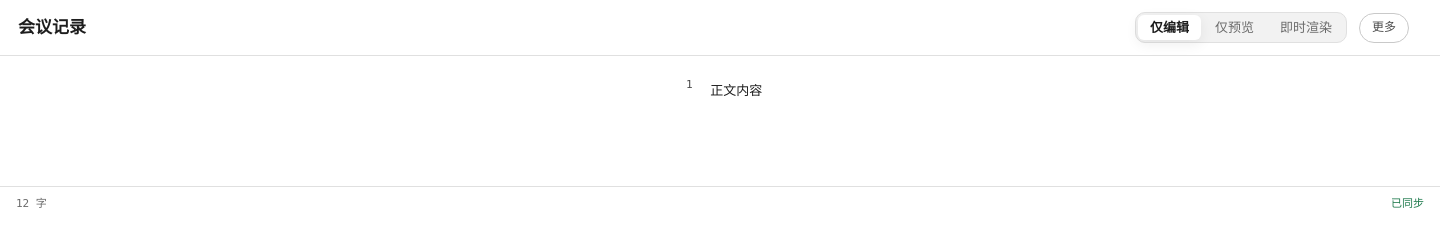
it: 「更多」菜单里的加密动作 › 未启用隐私锁时禁用加密并说明去哪里启用
The image size is (1440, 231).
Click the button "更多" at (1392, 28), box left=1359, top=12, right=1424, bottom=42
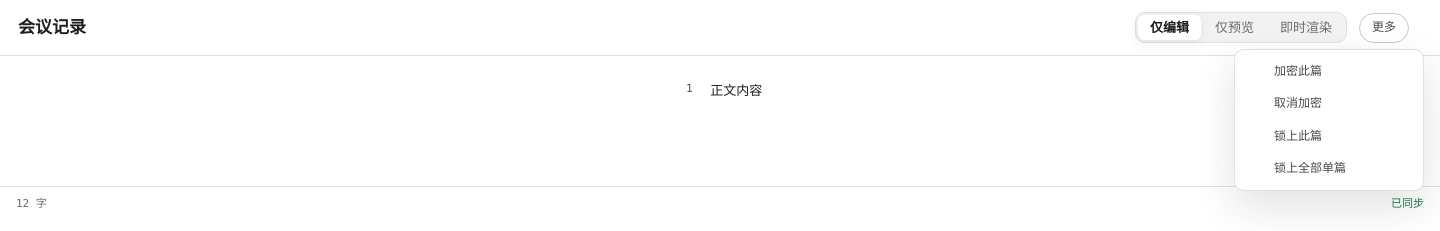
Check: the menu item "加密此篇" is disabled, box left=1240, top=54, right=1418, bottom=87
